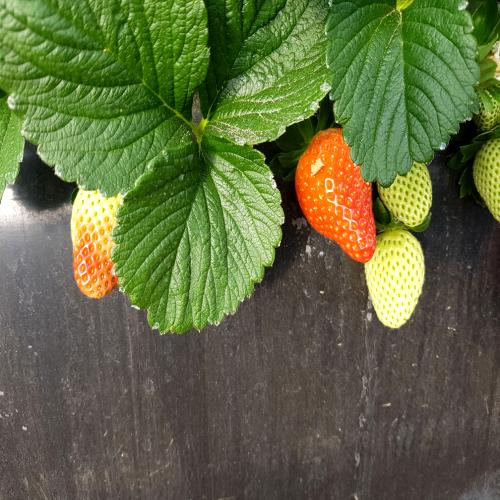partially-ripe: (69, 130, 152, 318)
ripe: (294, 102, 380, 286)
